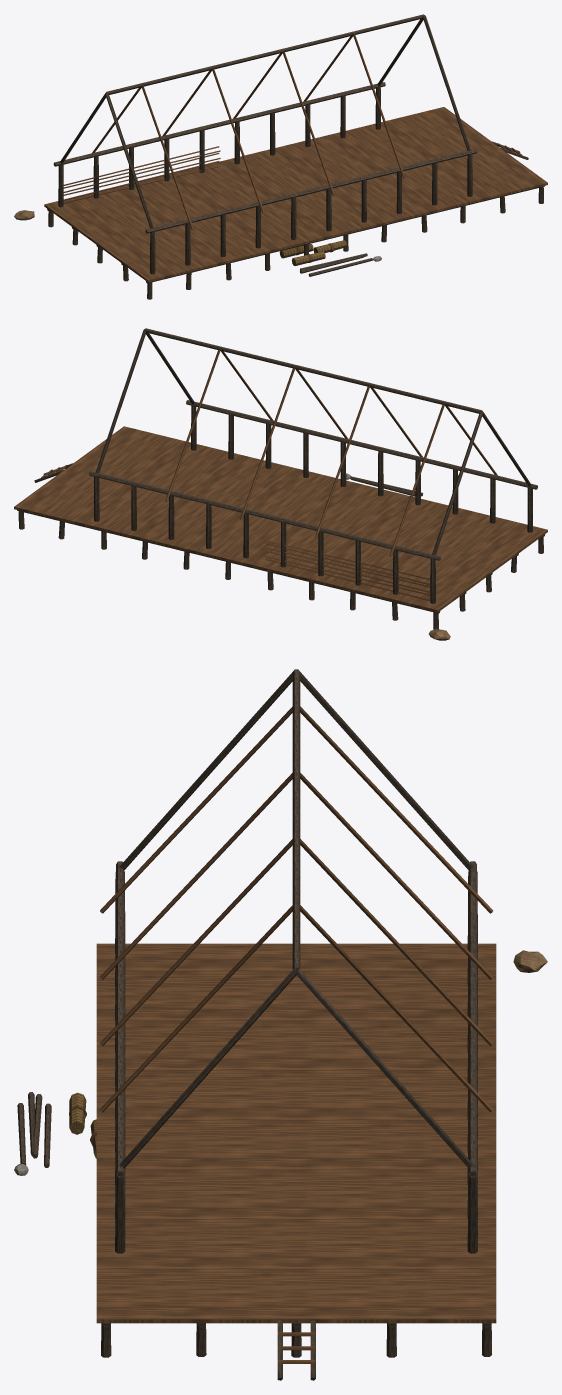
Rendered from cantiere_casa_del_capo.glb.
3 renders of one model, top to bottom at view 1: azimuth 30°, elevation 25°; view 2: azimuth 150°, elevation 25°; view 3: azimuth 270°, elevation 25°, orthographic. The views are drawn at different scales.
Visible parts, largest first — view 1: cantiere_casa_del_capo; view 2: cantiere_casa_del_capo; view 3: cantiere_casa_del_capo.
Boxes of the visible parts, box(x1,y1,x2,y2) form: cantiere_casa_del_capo: box(14, 14, 547, 299); cantiere_casa_del_capo: box(14, 328, 547, 640); cantiere_casa_del_capo: box(14, 669, 547, 1380).
Bounding box in the file's own units: 21.19 × 7.62 × 11.36.
Materials: 5 (5 with a texture image).
